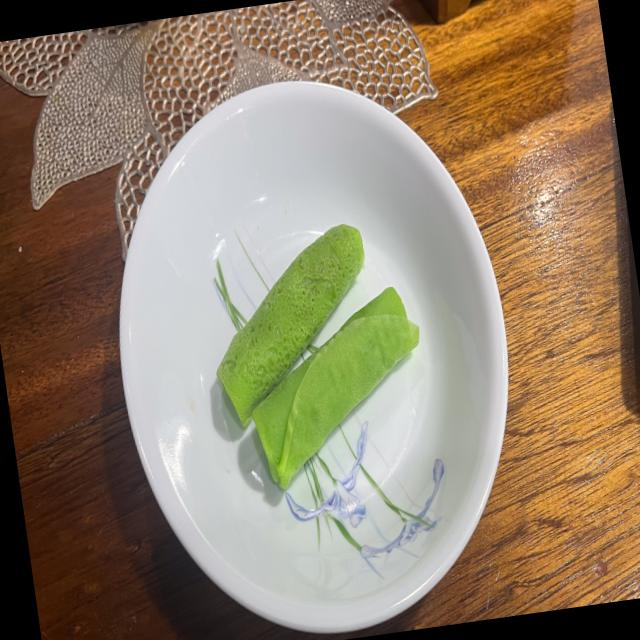Kuih-Ketayap: (253, 287, 419, 489), (216, 224, 364, 425)
